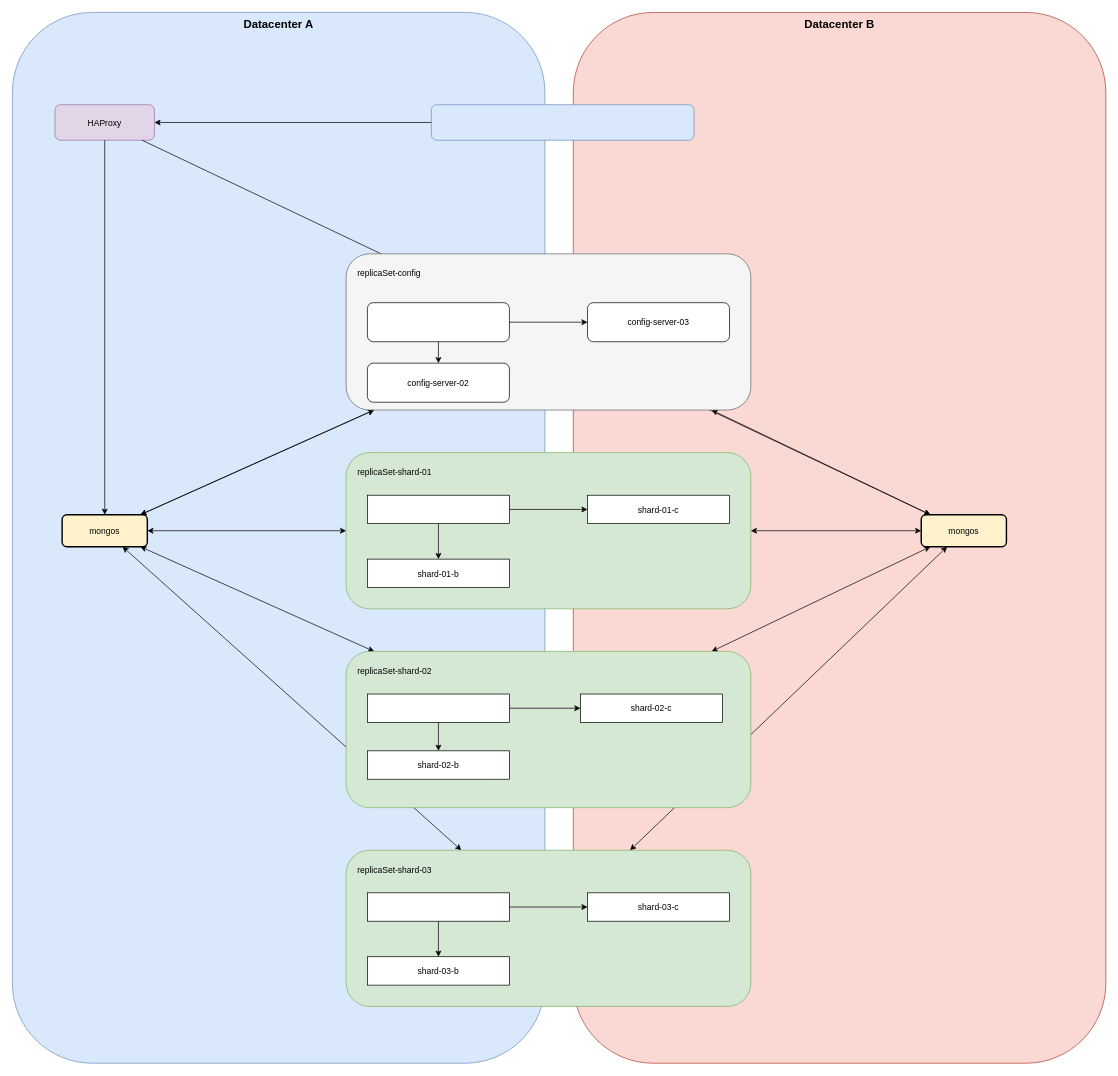
Image size: 1118x1076. Some labels were removed from this diagram. Here are the shapes that lost their labels. From the top down, the centre of each, then its label:
the point at 562,122: Applications
the point at 438,322: config-server-01
the point at 438,509: shard-01-a (primary)
the point at 438,707: shard-02-a (primary)
the point at 438,906: shard-03-a (primary)
